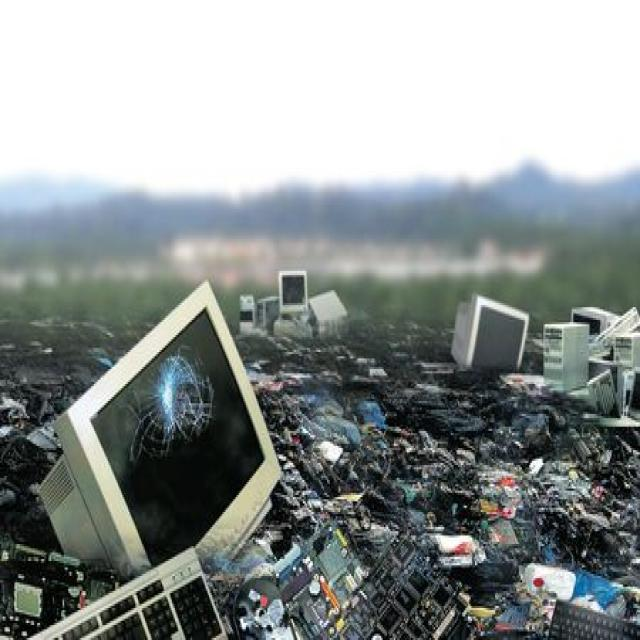heap: (13, 221, 640, 640)
metel: (46, 290, 312, 584)
